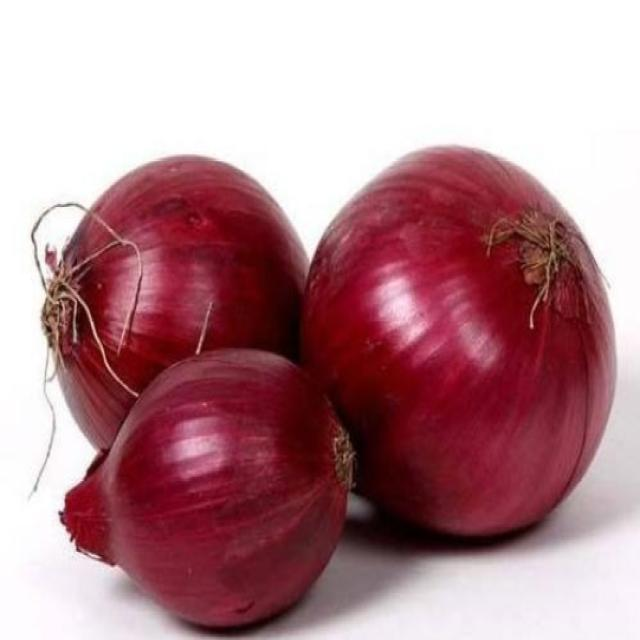healthy: (63, 147, 616, 625), (64, 156, 349, 614), (305, 150, 615, 528)
